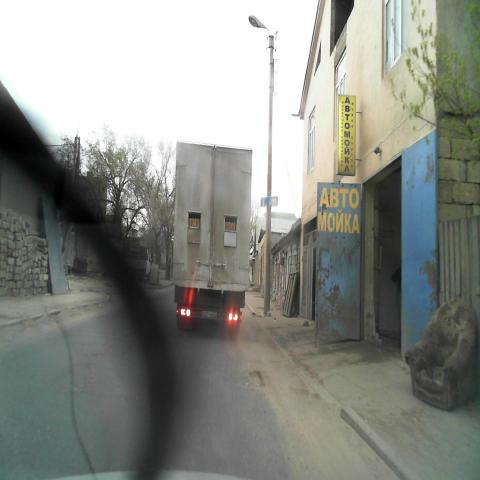6_15_1: (260, 196, 278, 208)
